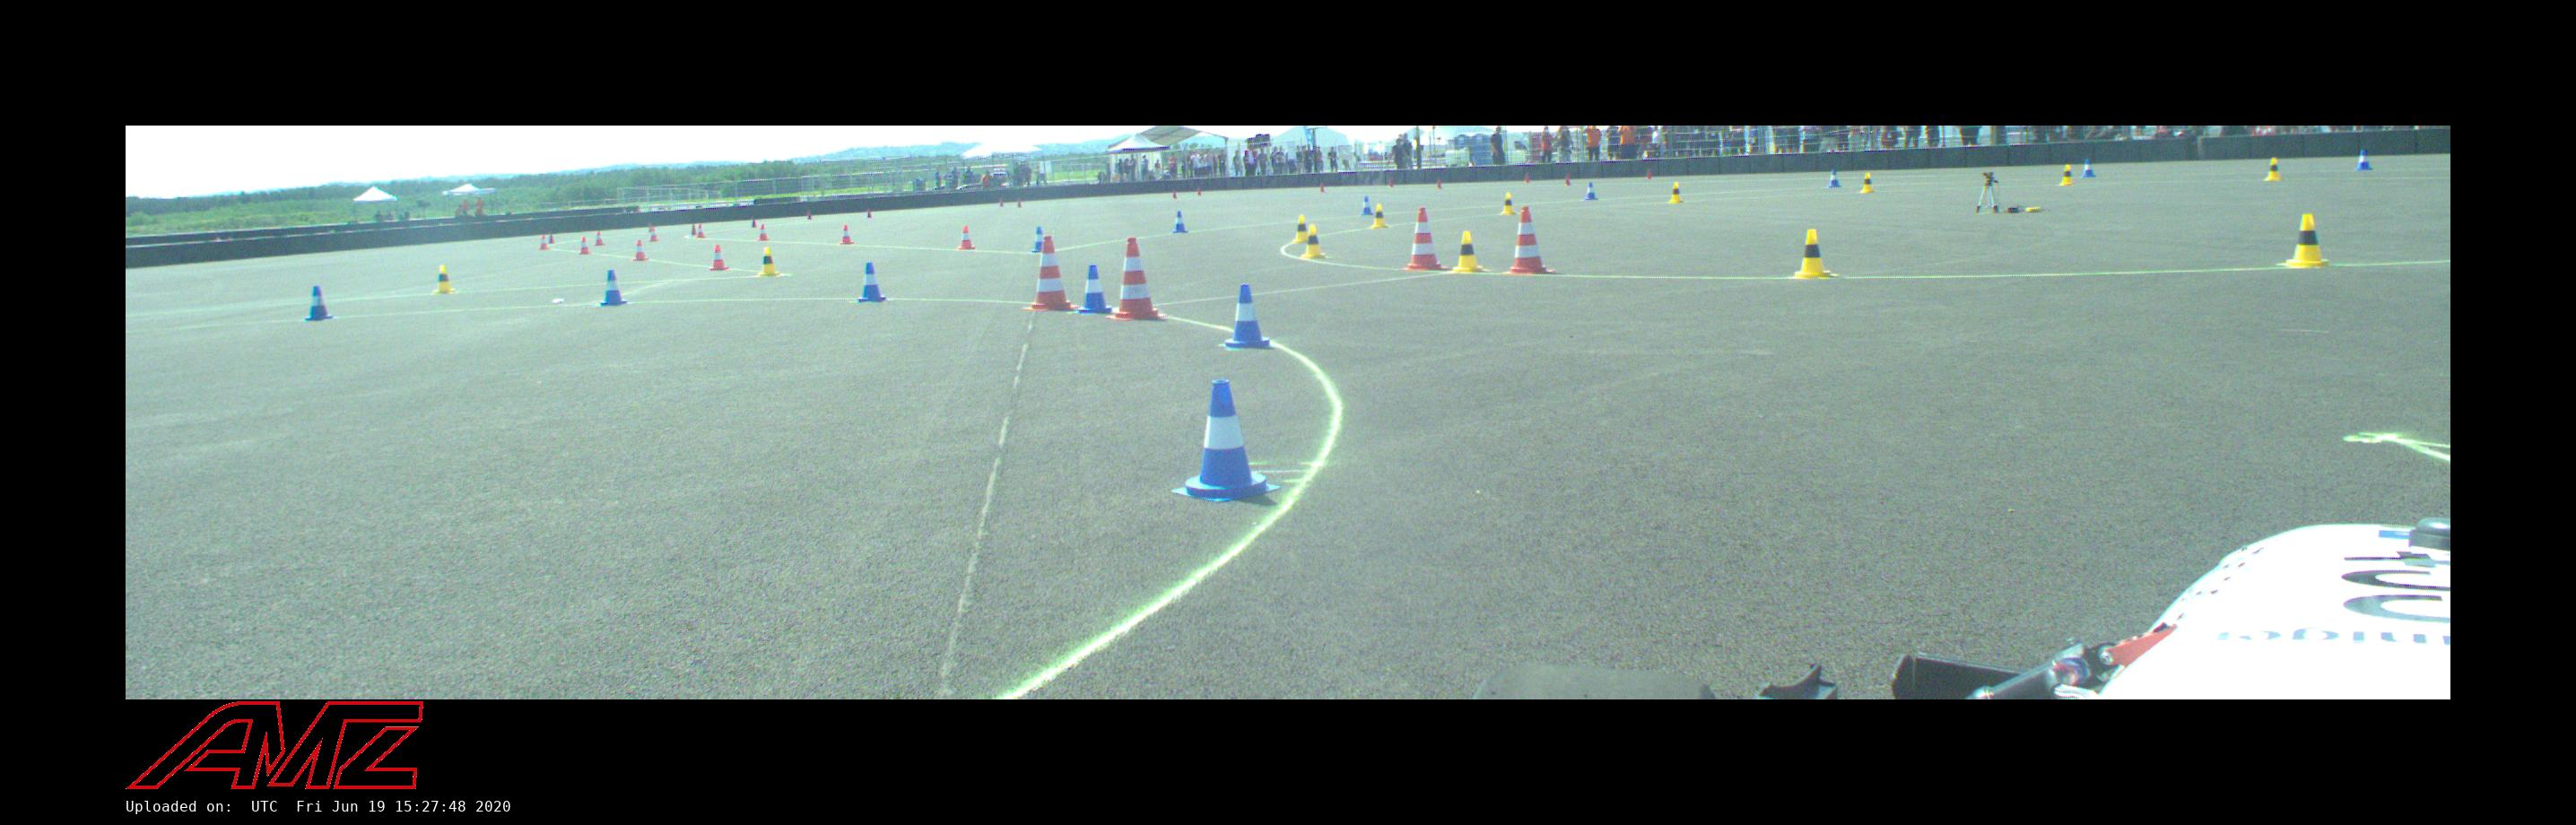blue_cone: (1171, 379, 1281, 501), (1220, 283, 1274, 351), (1074, 265, 1113, 315), (857, 262, 888, 303), (302, 285, 335, 322), (598, 270, 628, 307), (1031, 226, 1049, 253), (2355, 148, 2373, 170), (1172, 211, 1189, 233), (2080, 159, 2097, 178), (1360, 195, 1375, 216), (1827, 169, 1841, 188), (1585, 182, 1597, 201)
large_orange_cone: (1106, 238, 1167, 321), (1023, 236, 1080, 312), (1501, 206, 1555, 274), (1399, 207, 1449, 271)
orange_cone: (710, 245, 729, 271), (958, 226, 975, 249), (632, 240, 649, 261), (839, 225, 854, 244), (579, 237, 592, 255), (648, 227, 660, 242), (758, 224, 770, 240), (594, 230, 605, 246), (538, 234, 550, 249), (696, 222, 706, 239)
yellow_cone: (2278, 213, 2330, 268), (1793, 229, 1836, 279), (1451, 231, 1487, 273), (1301, 225, 1327, 259), (433, 265, 457, 295), (759, 247, 781, 278), (1292, 215, 1312, 243), (1370, 204, 1389, 229), (2264, 157, 2284, 181), (1500, 192, 1517, 215), (2058, 164, 2076, 186), (1667, 182, 1684, 204), (1860, 173, 1875, 194)
